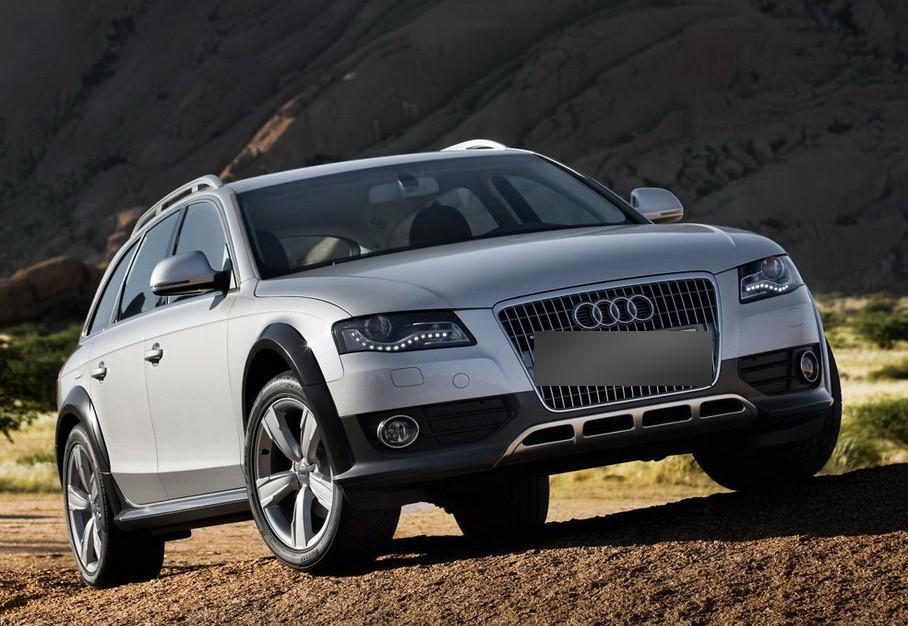Wagon: (51, 136, 844, 591)
